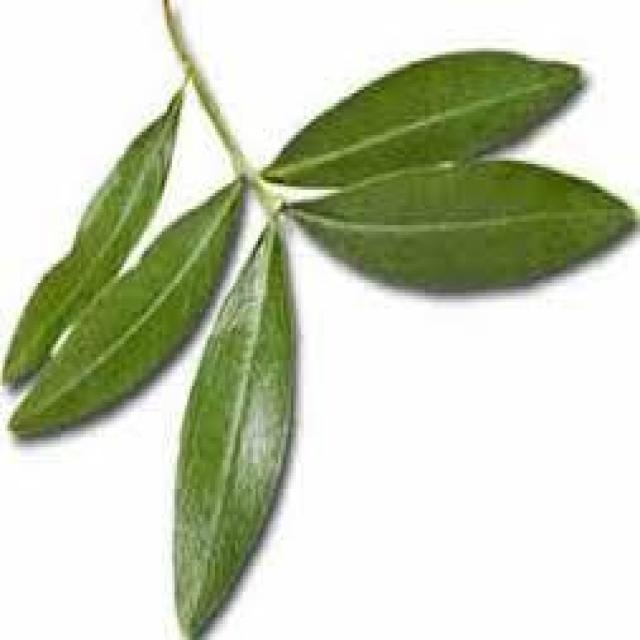Healthy: (10, 183, 240, 437), (175, 222, 293, 637), (293, 151, 632, 291), (266, 51, 582, 183)
